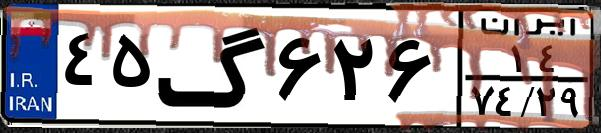1: (508, 27, 537, 80)
2: (330, 28, 385, 110), (535, 70, 560, 125)
4: (57, 26, 110, 100), (537, 27, 568, 80), (495, 70, 520, 125)
5: (110, 28, 156, 98)
6: (270, 28, 330, 110), (385, 28, 445, 110)
7: (470, 70, 495, 125)
9: (560, 70, 590, 125)
گ: (156, 12, 270, 120)
